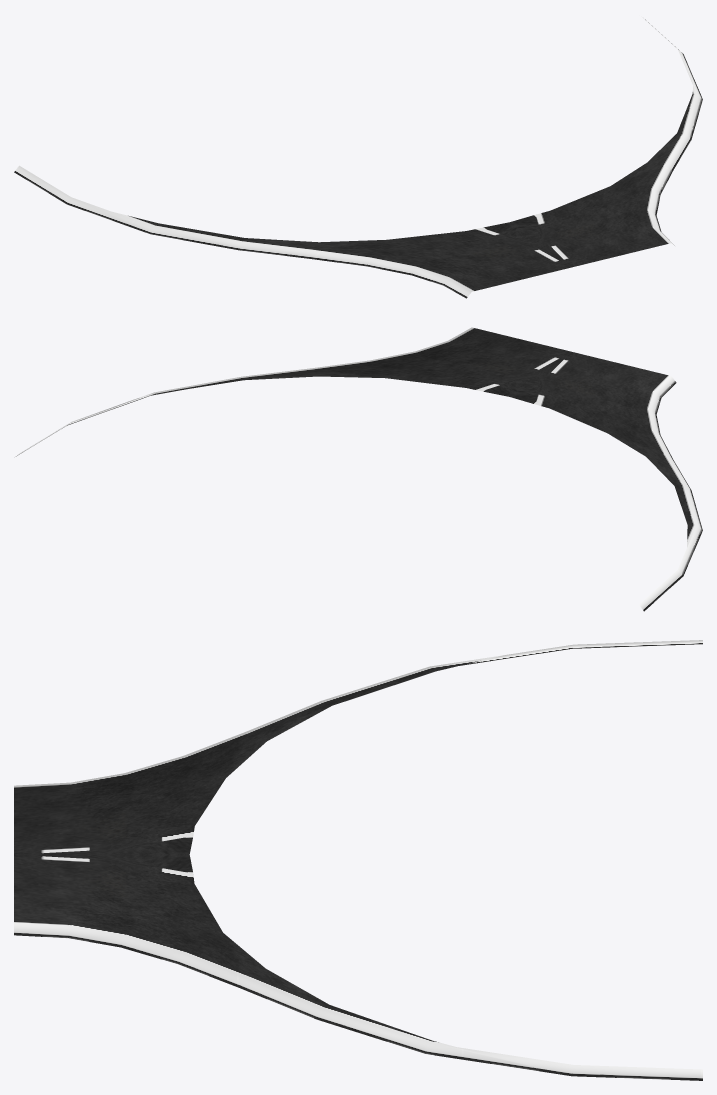
The model's file is TeleDiskHolder.fbx.
The picture shows the model from 3 angles, top to bottom: view 1: azimuth 30°, elevation 25°; view 2: azimuth 150°, elevation 25°; view 3: azimuth 270°, elevation 25°; orthographic projection. The views are drawn at different scales.
Visible parts, largest first — view 1: sbendRight2; view 2: sbendRight2; view 3: sbendRight2.
Boxes of the visible parts, x1=… form: sbendRight2: x1=14, y1=16, x2=702, y2=298; sbendRight2: x1=15, y1=327, x2=702, y2=611; sbendRight2: x1=14, y1=640, x2=702, y2=1080.
Bounding box in the file's own units: 6000 × 50 × 4000.
1 material, 1 textured.
